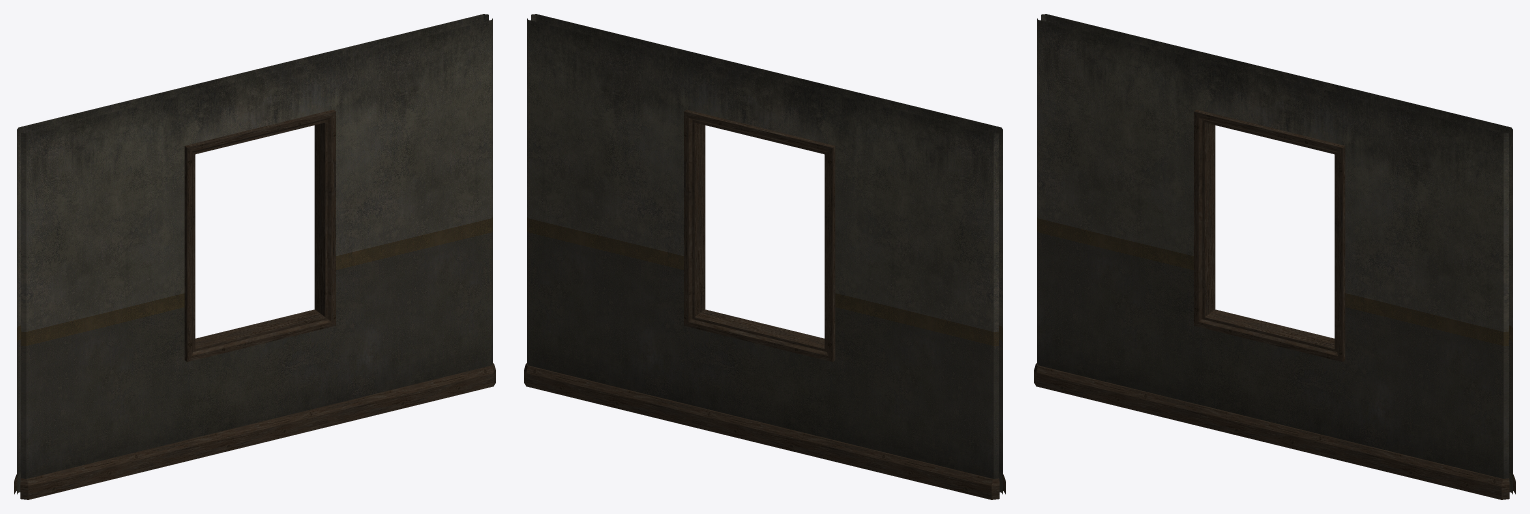
The model's file is window_2_single_frame_only.obj.
The picture shows the model from 3 angles, left to right: view 1: azimuth 30°, elevation 25°; view 2: azimuth 150°, elevation 25°; view 3: azimuth 330°, elevation 25°; orthographic projection.
Parts seen in each view (by area): view 1: window_2_single_frame_only; view 2: window_2_single_frame_only; view 3: window_2_single_frame_only.
Part boxes in pixels (x1,y1,x2,y2): window_2_single_frame_only: [14, 14, 495, 499]; window_2_single_frame_only: [524, 14, 1005, 499]; window_2_single_frame_only: [1034, 14, 1515, 499].
Size of the model in its own units: 4.09 by 3 by 0.2.
